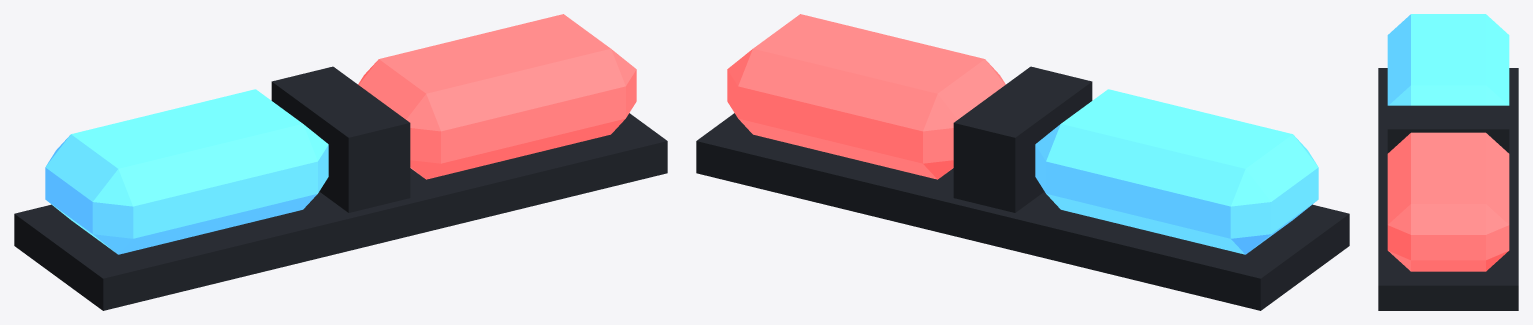
Rendered from police_bar.glb.
3 views of the same model, side by side, from view 1: azimuth 30°, elevation 25°; view 2: azimuth 150°, elevation 25°; view 3: azimuth 270°, elevation 25° (orthographic). The views are drawn at different scales.
Visible parts, largest first — view 1: police_bar; view 2: police_bar; view 3: police_bar.
Part boxes in pixels (<box>): police_bar: <box>14,14,667,310</box>; police_bar: <box>696,14,1349,310</box>; police_bar: <box>1378,14,1518,310</box>.
Size of the model in its own units: 1.1 by 0.22 by 0.3.
